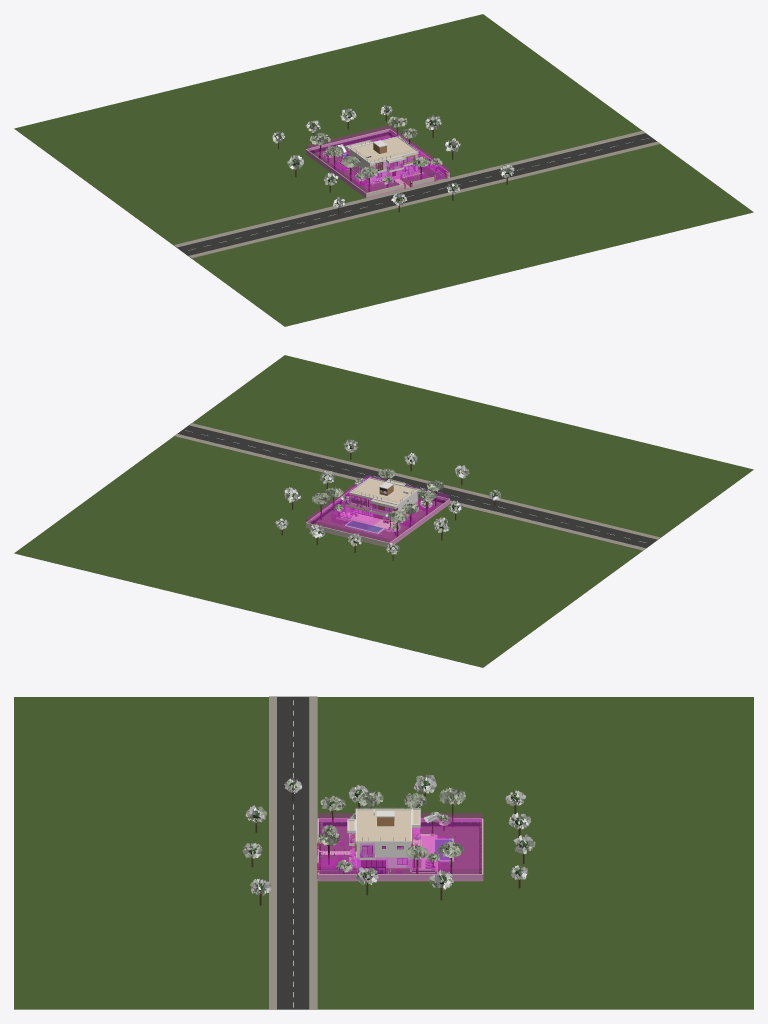
The model's file is villa.glb.
The picture shows the model from 3 angles, top to bottom: view 1: azimuth 30°, elevation 25°; view 2: azimuth 150°, elevation 25°; view 3: azimuth 270°, elevation 25°; orthographic projection. The views are drawn at different scales.
Parts seen in each view (by area): view 1: merged-grass-dark, merged-asphalt, merged-paver, merged-leaf-card, room-front-garden, room-rear-garden, merged-grass, merged-porcelain-beige, merged-leaf-card-dark, merged-concrete; view 2: merged-grass-dark, merged-asphalt, merged-paver, room-rear-garden, merged-leaf-card, merged-grass, merged-porcelain-beige, room-pool-deck, merged-leaf-card-dark; view 3: merged-grass-dark, merged-asphalt, merged-paver, room-rear-garden, merged-grass, merged-leaf-card, room-front-garden, merged-porcelain-beige, merged-leaf-card-dark, walk-ground, room-east-garden, merged-boundary-plaster (+5 smaller).
Part boxes in pixels (box(x1,y1,x2,y2)): merged-grass-dark: box(14, 14, 753, 326); merged-asphalt: box(177, 133, 656, 255); merged-paver: box(173, 130, 660, 258); merged-leaf-card: box(272, 105, 514, 207); room-front-garden: box(353, 163, 449, 192); room-rear-garden: box(306, 125, 414, 170); merged-grass: box(313, 135, 444, 192); merged-porcelain-beige: box(351, 137, 416, 162); merged-leaf-card-dark: box(272, 105, 514, 208); merged-concrete: box(176, 132, 645, 247); merged-grass-dark: box(14, 355, 753, 667); merged-asphalt: box(177, 425, 657, 548); merged-paver: box(174, 423, 660, 550); room-rear-garden: box(306, 500, 414, 542); merged-leaf-card: box(275, 439, 500, 553); merged-grass: box(314, 498, 442, 542); merged-porcelain-beige: box(351, 478, 416, 503); room-pool-deck: box(332, 504, 380, 528); merged-leaf-card-dark: box(276, 439, 500, 554); merged-grass-dark: box(14, 697, 753, 1009); merged-asphalt: box(277, 696, 309, 1009); merged-paver: box(269, 696, 317, 1009); room-rear-garden: box(412, 813, 482, 873); merged-grass: box(320, 825, 481, 873); merged-leaf-card: box(242, 774, 535, 895); room-front-garden: box(318, 813, 355, 873); merged-porcelain-beige: box(357, 810, 410, 840); merged-leaf-card-dark: box(242, 775, 535, 895); walk-ground: box(454, 827, 478, 873); room-east-garden: box(356, 857, 411, 873); merged-boundary-plaster: box(318, 874, 482, 879).
Size of the model in its own units: 180 by 12 by 180.
